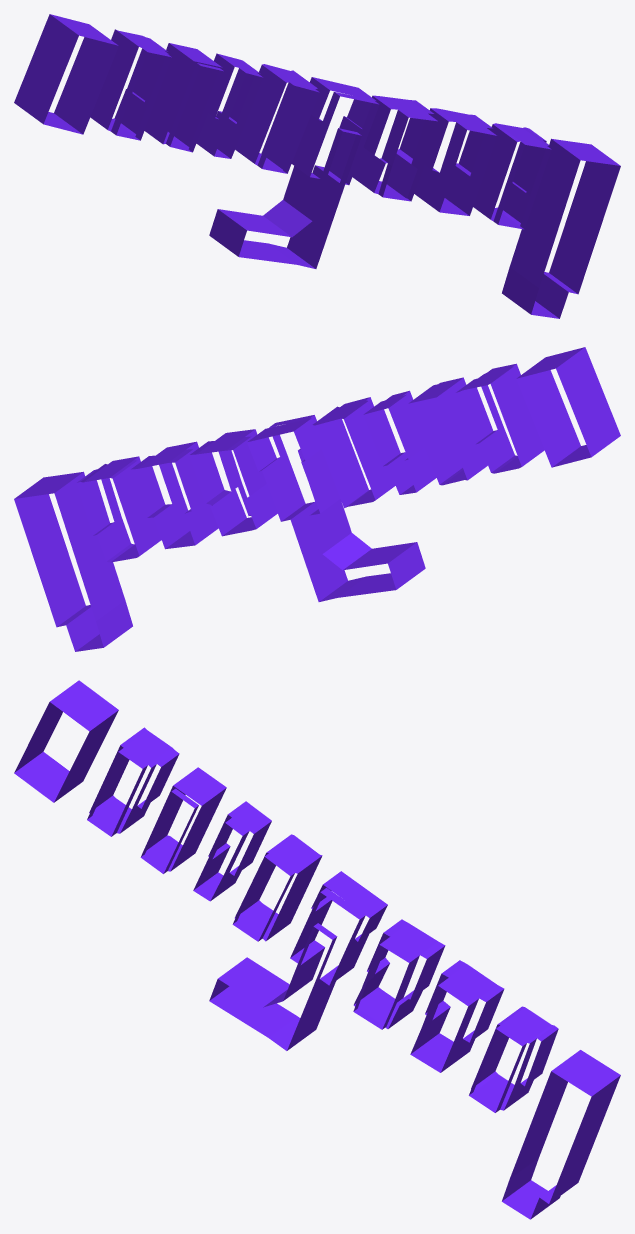
Rendered from Wall_Hini_4.0_Slope_2.5.obj.
3 renders of one model, top to bottom at view 1: azimuth 30°, elevation 25°; view 2: azimuth 150°, elevation 25°; view 3: azimuth 330°, elevation 25°, orthographic.
Parts seen in each view (by area): view 1: 5, 1, 10, 3, 7, 4, 9, 8, 2, 6; view 2: 5, 1, 10, 9, 3, 4, 2, 7, 8, 6; view 3: 5, 1, 10, 4, 3, 2, 9, 7, 8, 6.
Part boxes in pixels (<box>): 5: <box>209,77,379,268</box>; 1: <box>502,138,620,318</box>; 10: <box>14,14,118,134</box>; 3: <box>352,95,438,201</box>; 7: <box>235,64,319,173</box>; 4: <box>414,108,497,215</box>; 9: <box>90,29,171,140</box>; 8: <box>144,43,223,152</box>; 2: <box>473,123,551,229</box>; 6: <box>196,53,263,158</box>; 5: <box>247,415,425,601</box>; 1: <box>14,471,132,651</box>; 10: <box>516,347,620,467</box>; 9: <box>455,363,544,473</box>; 3: <box>189,429,277,536</box>; 4: <box>130,441,218,549</box>; 2: <box>76,456,161,562</box>; 7: <box>312,397,395,508</box>; 8: <box>408,377,487,485</box>; 6: <box>363,390,436,494</box>; 5: <box>209,871,387,1050</box>; 1: <box>502,1050,620,1219</box>; 10: <box>14,680,118,802</box>; 4: <box>410,960,504,1072</box>; 3: <box>353,919,445,1029</box>; 2: <box>469,1006,558,1112</box>; 9: <box>87,727,179,836</box>; 7: <box>232,834,322,941</box>; 8: <box>140,767,226,873</box>; 6: <box>193,801,271,901</box>.
Size of the model in its own units: 136 by 90 by 12.
